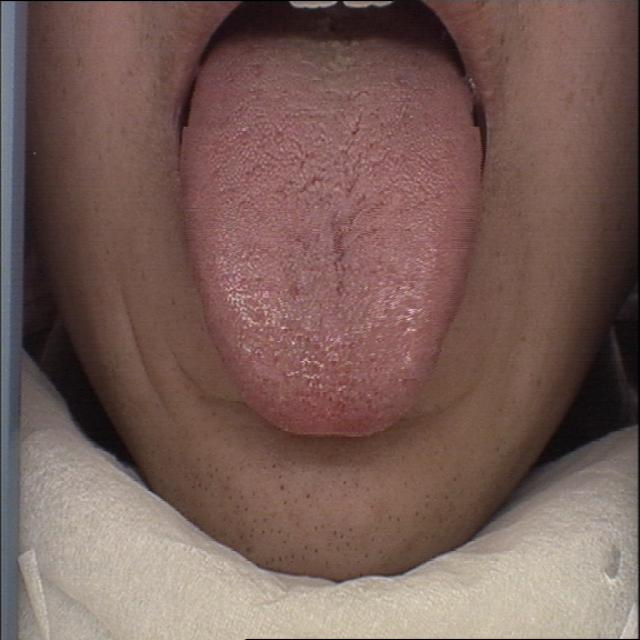baitaishe: (179, 30, 481, 438)
liewenshe: (315, 88, 365, 297)
